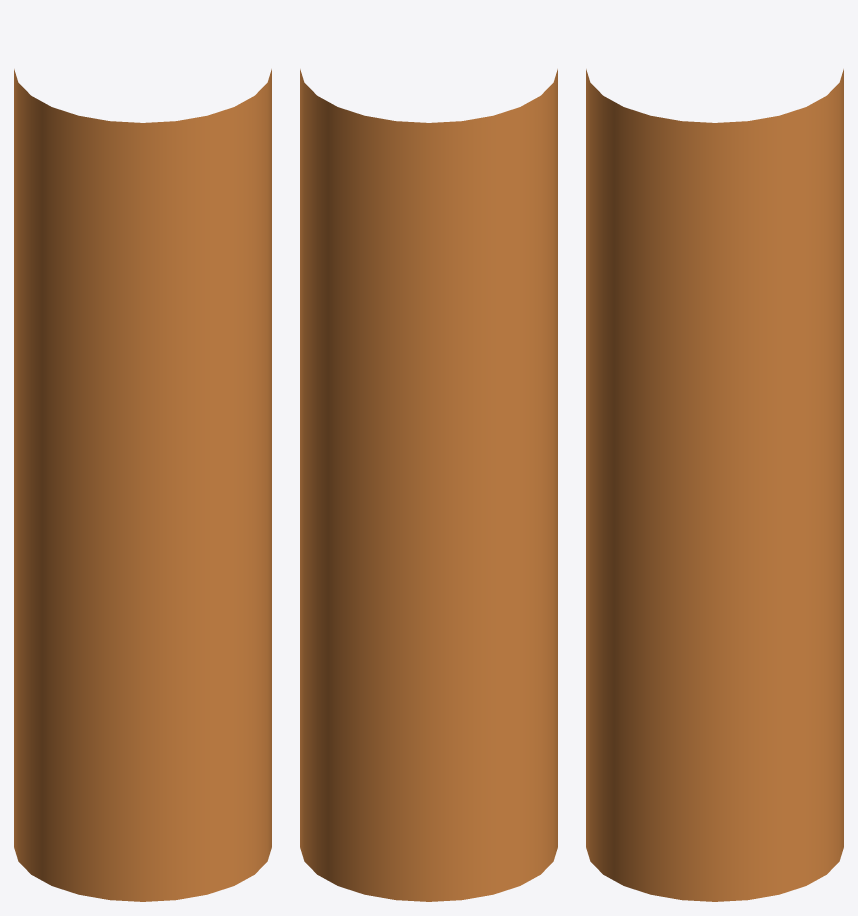
Rendered from morph.gltf.
3 views of the same model, side by side, from view 1: azimuth 30°, elevation 25°; view 2: azimuth 150°, elevation 25°; view 3: azimuth 270°, elevation 25° (orthographic).
Parts seen in each view (by area): view 1: surface; view 2: surface; view 3: surface.
Boxes of the visible parts, x1,y1,x2,y2 form: surface: (14,69,271,901); surface: (300,69,557,901); surface: (586,69,843,901).
Bounding box in the file's own units: 0.6 × 2 × 0.6.
